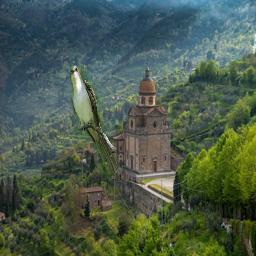Cuckoo: (70, 67, 124, 182)
